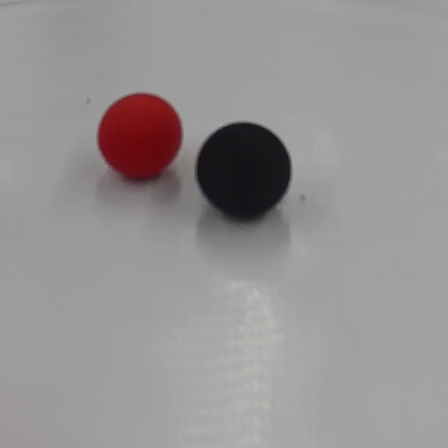black: (196, 121, 293, 223)
red: (97, 85, 184, 183)
